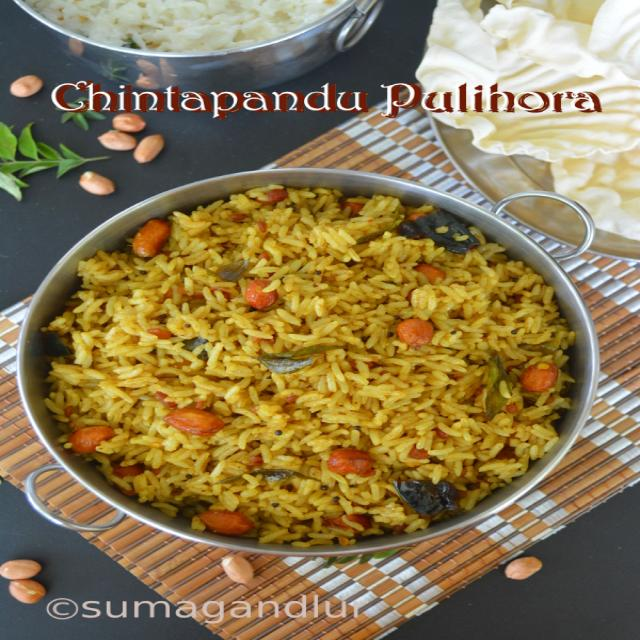puliyogare: (25, 167, 598, 558)
